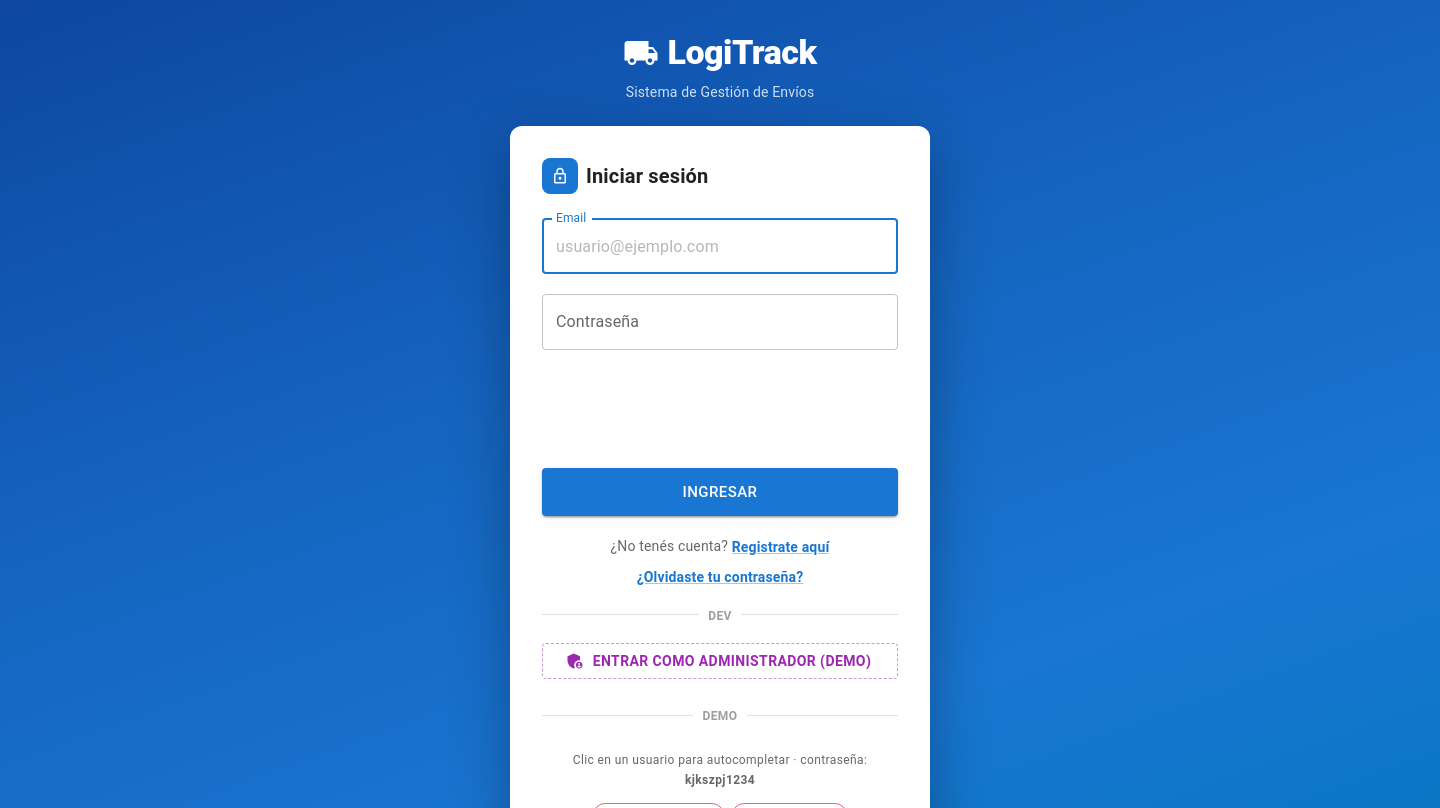
Test: LoginPage integration › bloquea el submit cuando no se completa captcha
In the field labelled "Email": (720, 246) [542,218,898,274], type "example@gmail.com"
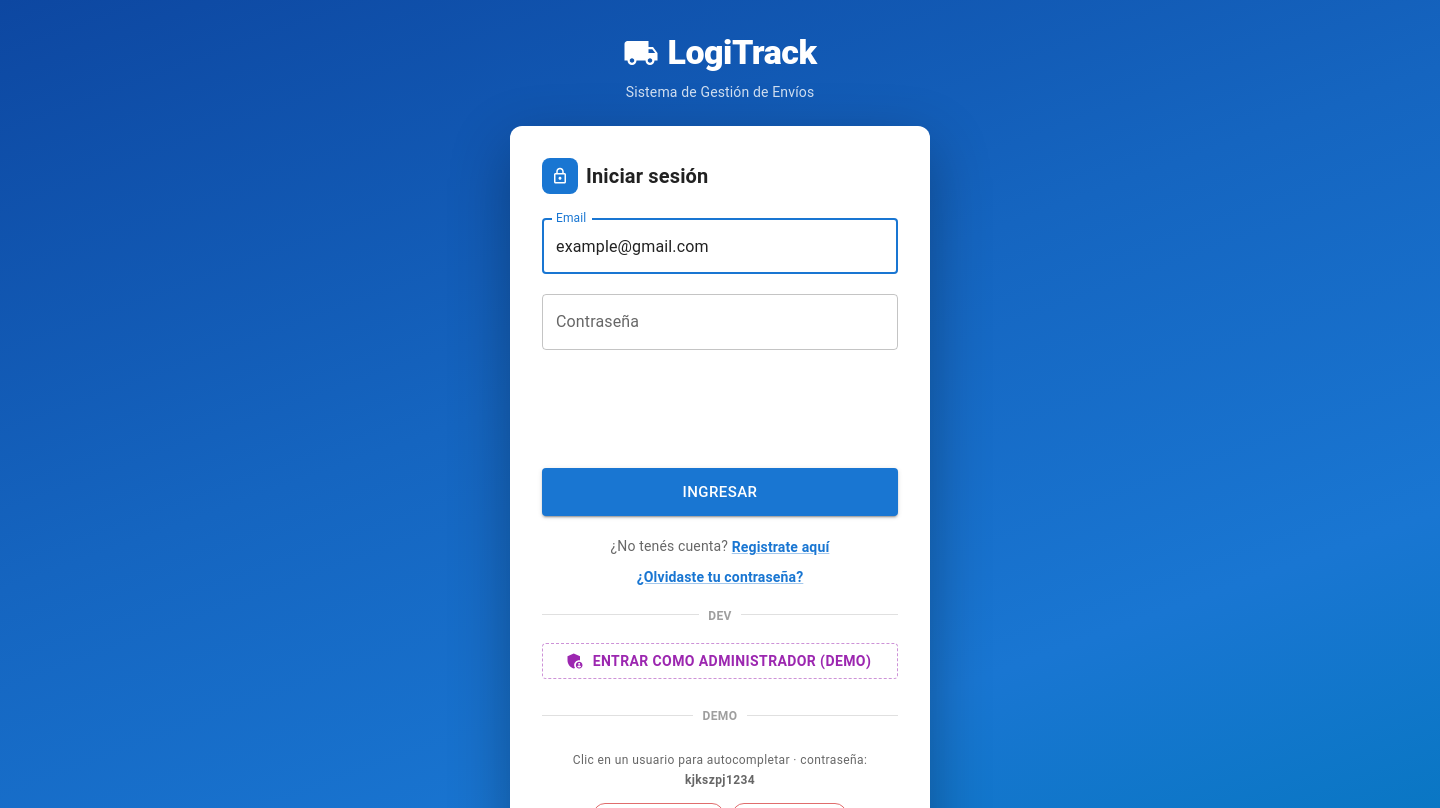
In the password field labelled "Contraseña": (720, 322) [542,294,898,350], type "12345678"
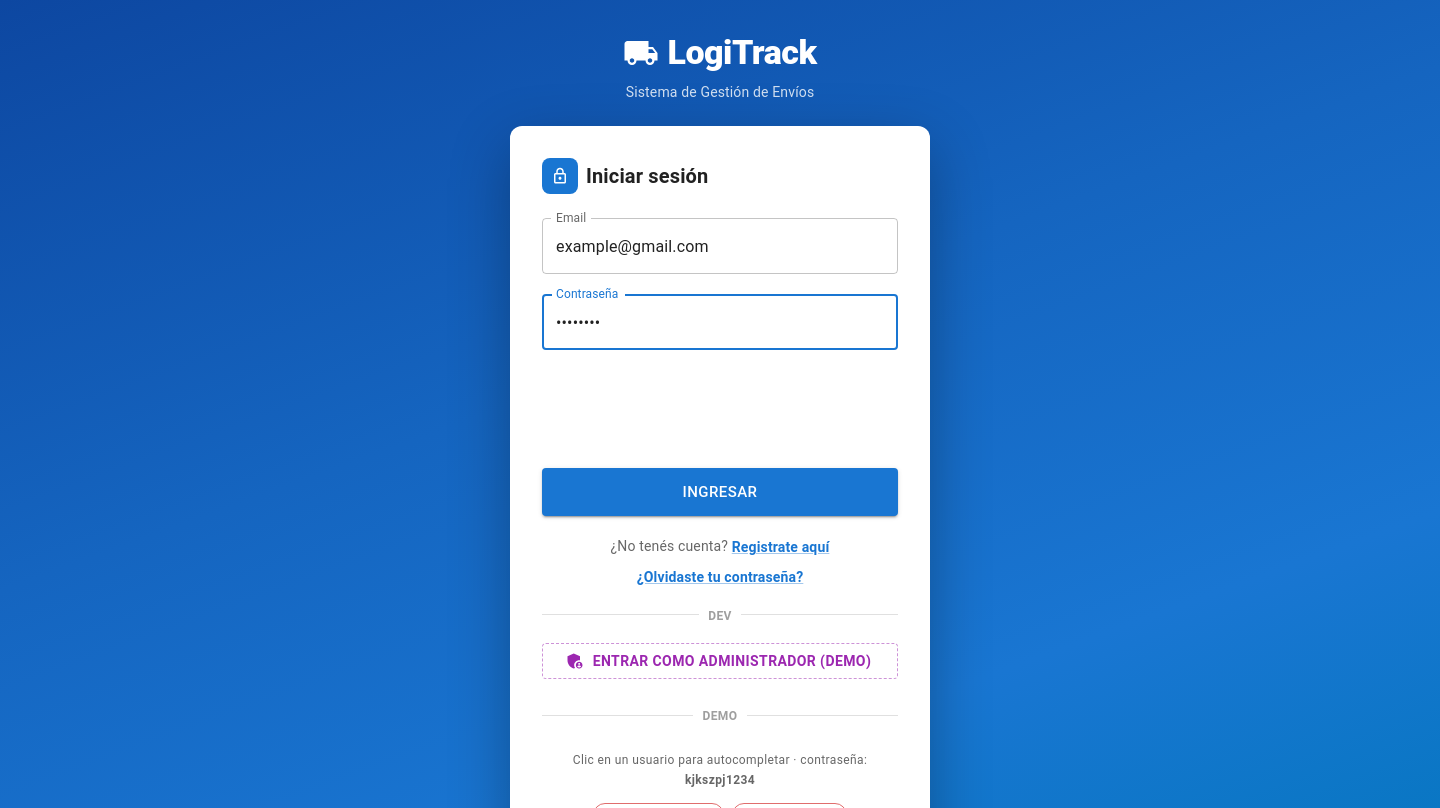
Click the button "Ingresar": (720, 492) [542,468,898,516]
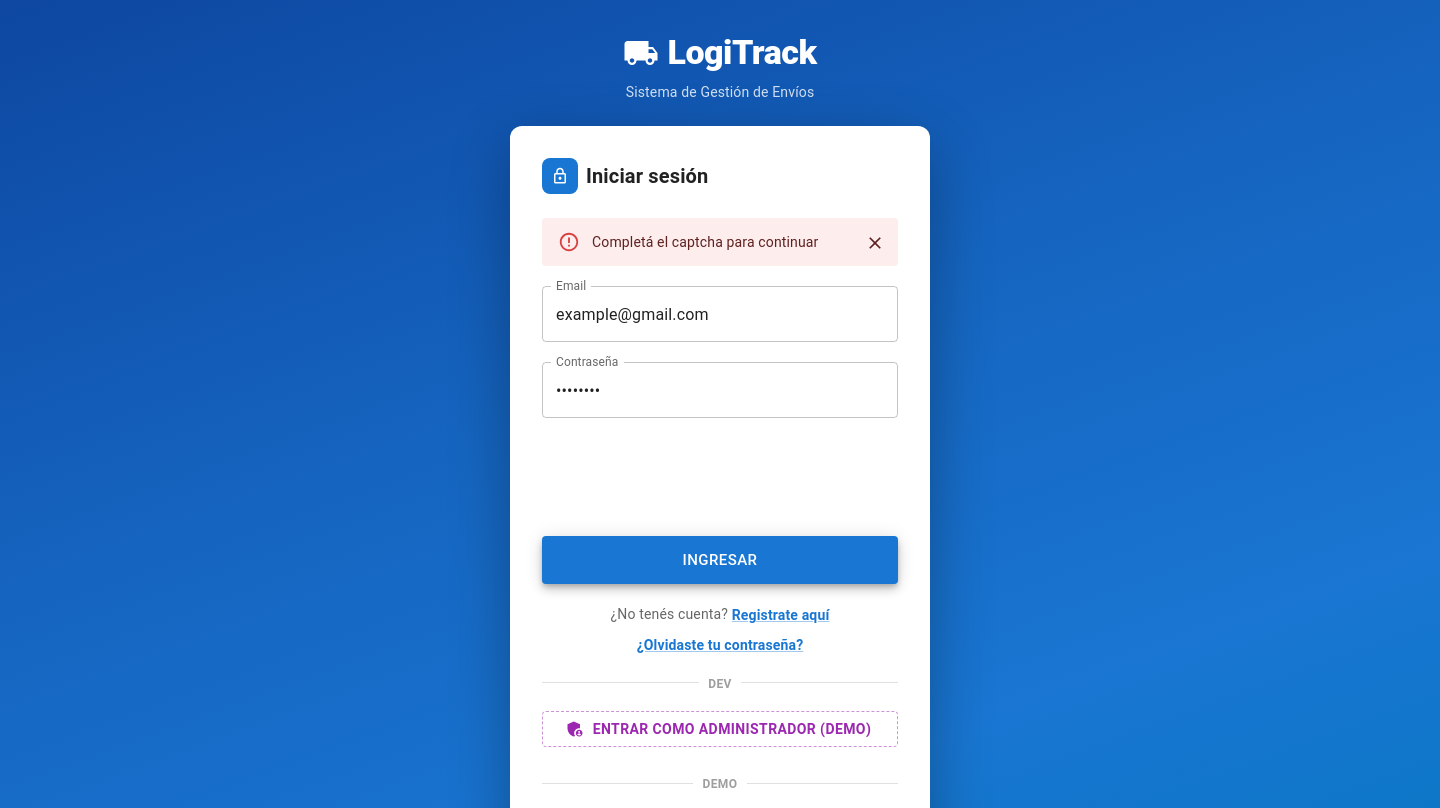
Expected: the text "Completá el captcha para continuar" is shown, [592,234,818,250]
